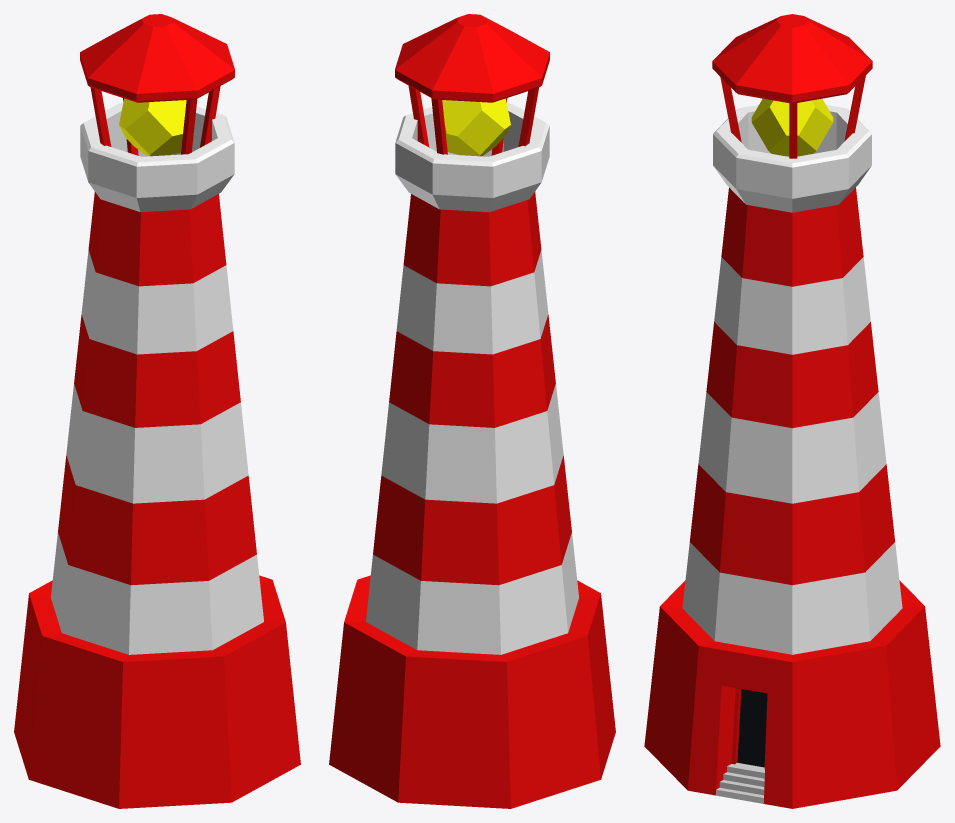
The model's file is lighthouse.fbx.
The picture shows the model from 3 angles, left to right: view 1: azimuth 30°, elevation 25°; view 2: azimuth 150°, elevation 25°; view 3: azimuth 270°, elevation 25°; orthographic projection.
Parts seen in each view (by area): view 1: Cylinder001; view 2: Cylinder001; view 3: Cylinder001.
Part boxes in pixels (left/top/right/bottom): Cylinder001: left=14, top=14, right=300, bottom=808; Cylinder001: left=329, top=14, right=615, bottom=808; Cylinder001: left=644, top=14, right=940, bottom=808.
Bounding box in the file's own units: 474 × 1281 × 474.
Materials: 1 (1 with a texture image).
